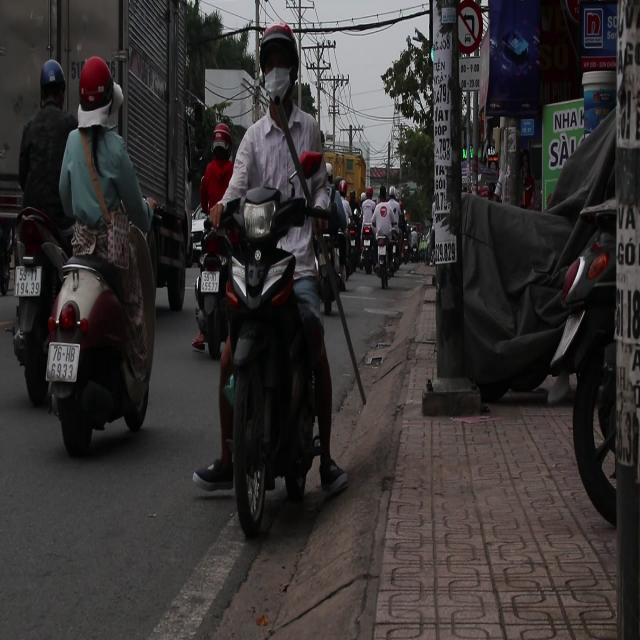motorbike: (189, 148, 347, 514), (21, 208, 157, 455), (372, 203, 405, 288)
